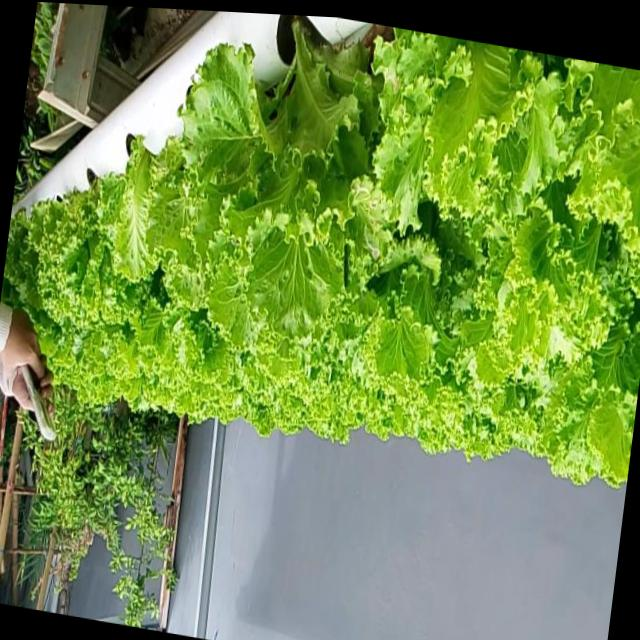Mature: (0, 18, 640, 490), (189, 31, 386, 329), (9, 155, 159, 363)
